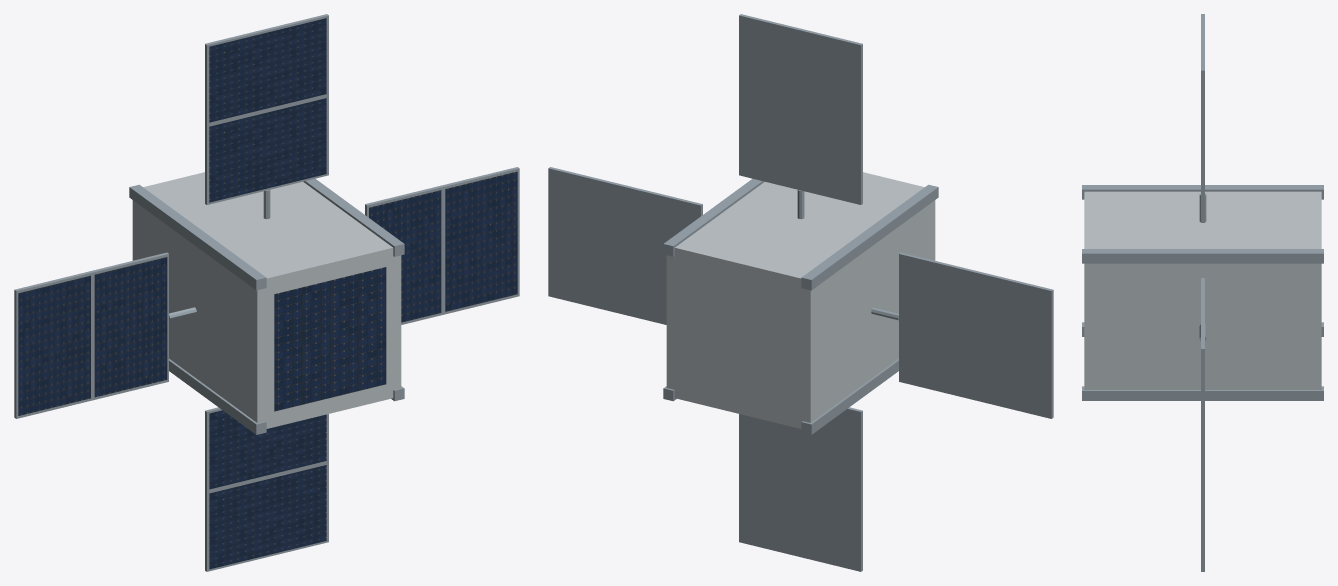
Rendered from ref-cubesat-6u-46319.glb.
3 views of the same model, side by side, from view 1: azimuth 30°, elevation 25°; view 2: azimuth 150°, elevation 25°; view 3: azimuth 270°, elevation 25° (orthographic). The views are drawn at different scales.
Visible parts, largest first — view 1: Photovoltaic laminates (×8), Spacecraft body, Body-mounted cells, Array frame (×8), Dispenser rail (×3); view 2: Array frame (×8), Spacecraft body, Dispenser rail (×3); view 3: Spacecraft body, Dispenser rail (×3), Array frame (×2).
Boxes of the visible parts, left/top/right/bottom form: Photovoltaic laminates (×8): left=18, top=18, right=517, bottom=569; Spacecraft body: left=132, top=172, right=401, bottom=428; Body-mounted cells: left=274, top=267, right=386, bottom=411; Array frame (×8): left=14, top=14, right=519, bottom=571; Dispenser rail (×3): left=129, top=178, right=404, bottom=434; Array frame (×8): left=548, top=14, right=1053, bottom=571; Spacecraft body: left=666, top=172, right=935, bottom=428; Dispenser rail (×3): left=663, top=178, right=938, bottom=434; Spacecraft body: left=1084, top=191, right=1321, bottom=389; Dispenser rail (×3): left=1082, top=185, right=1323, bottom=400; Array frame (×2): left=1201, top=14, right=1204, bottom=470.
Bounding box in the file's own units: 0.7 × 0.7 × 0.306.
Materials: 3 (1 with a texture image).
